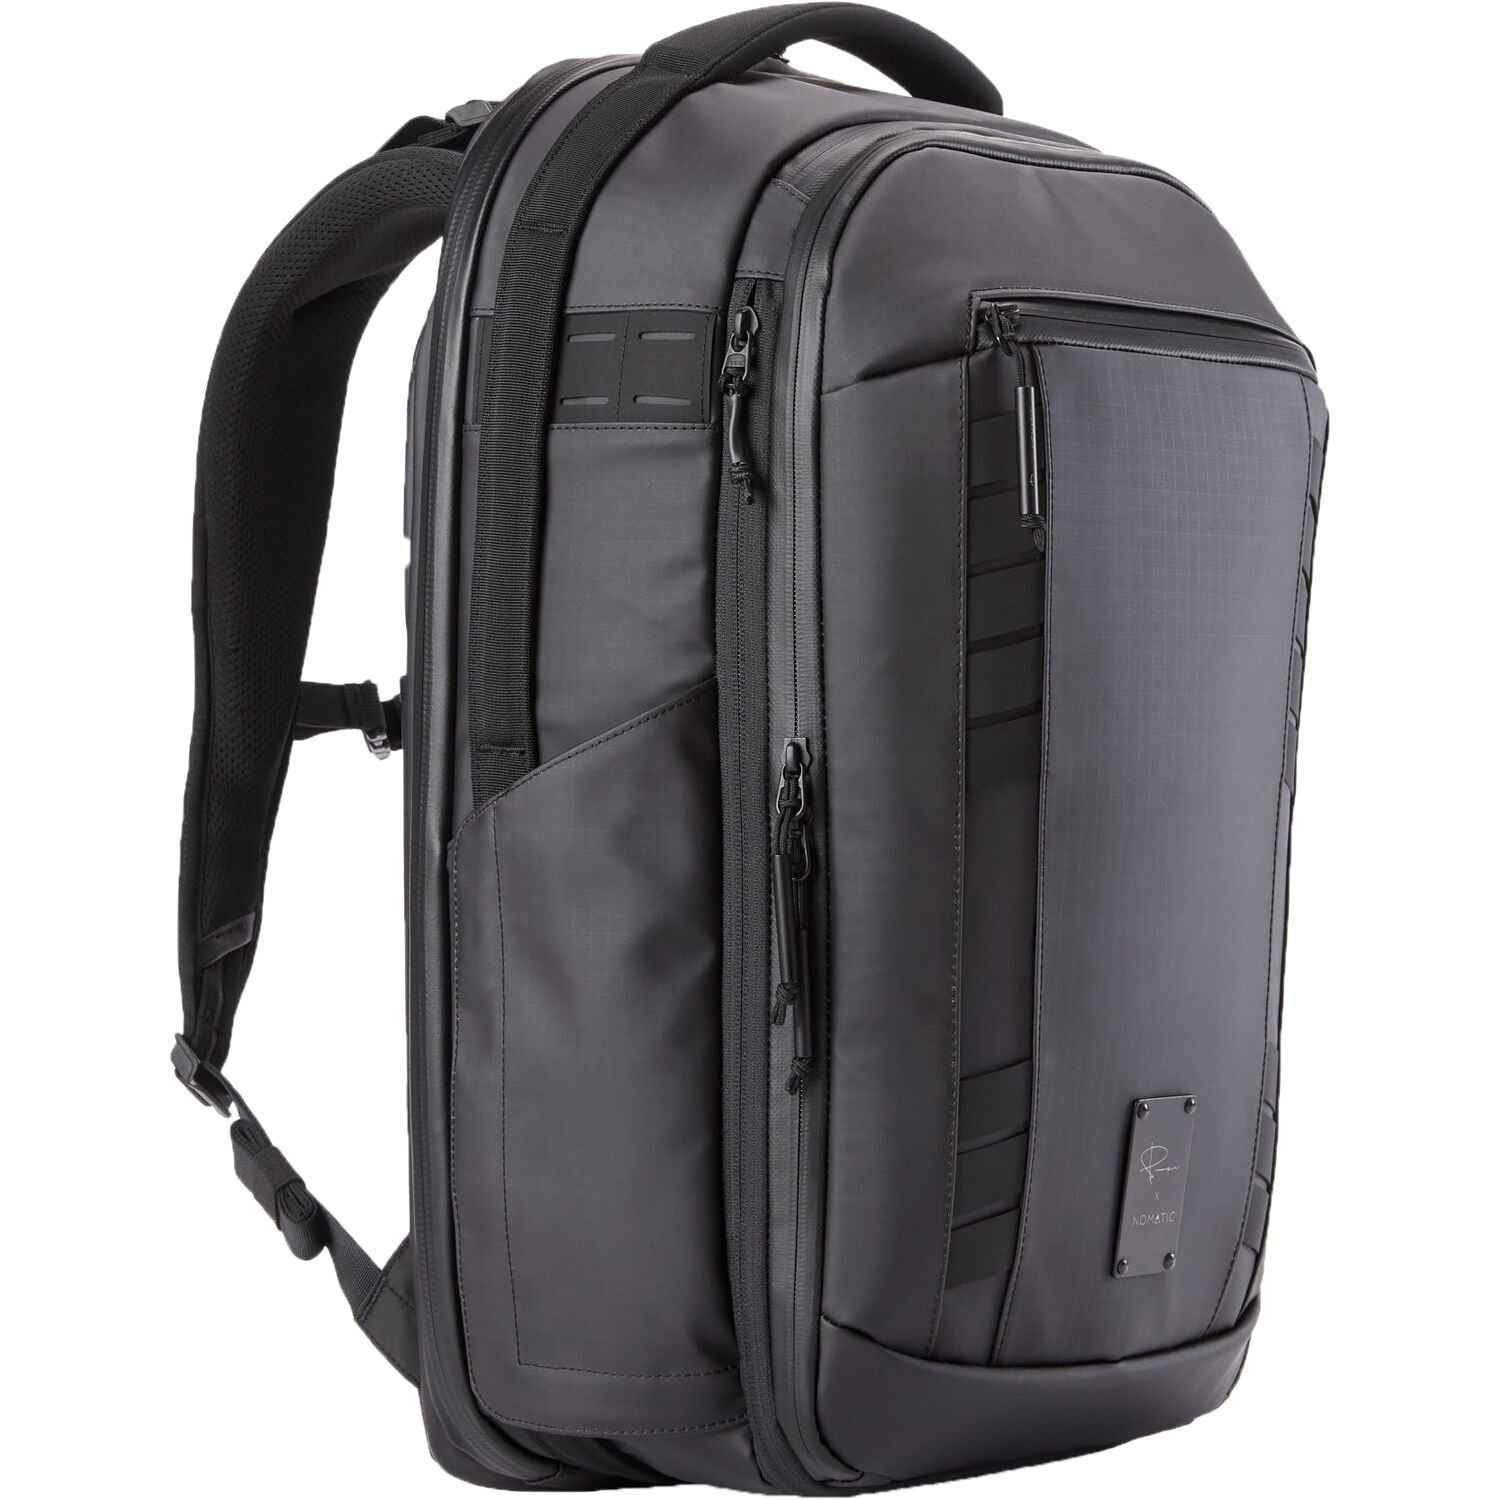backpack: (129, 8, 1346, 1500)
